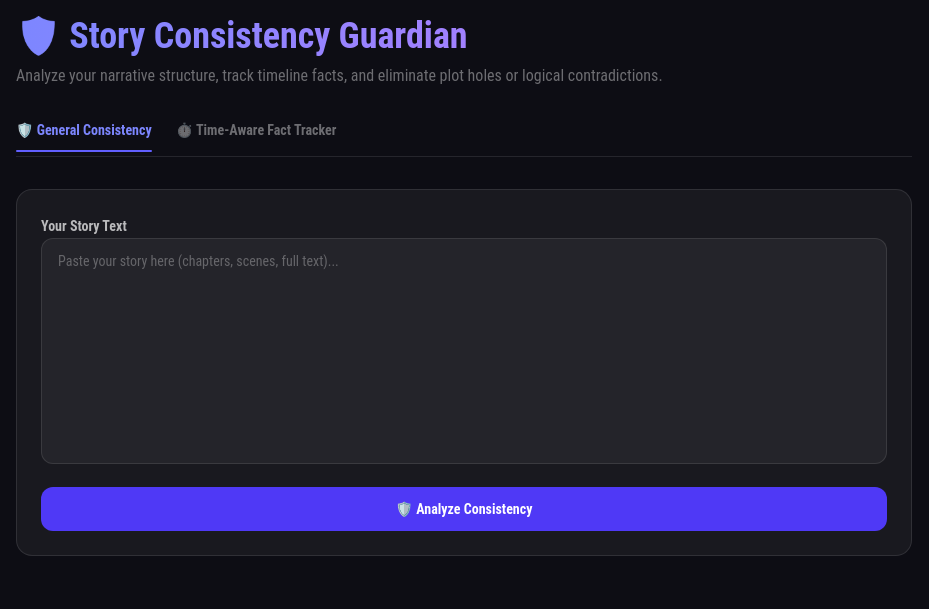
Test: StoryConsistencyGuardian › clears stale error state when story text changes
Type "short text" into the text box with placeholder "Paste your story here (chapters, scenes, full text)...".
click(464, 351); type("short text")  # box [41, 238, 887, 464]
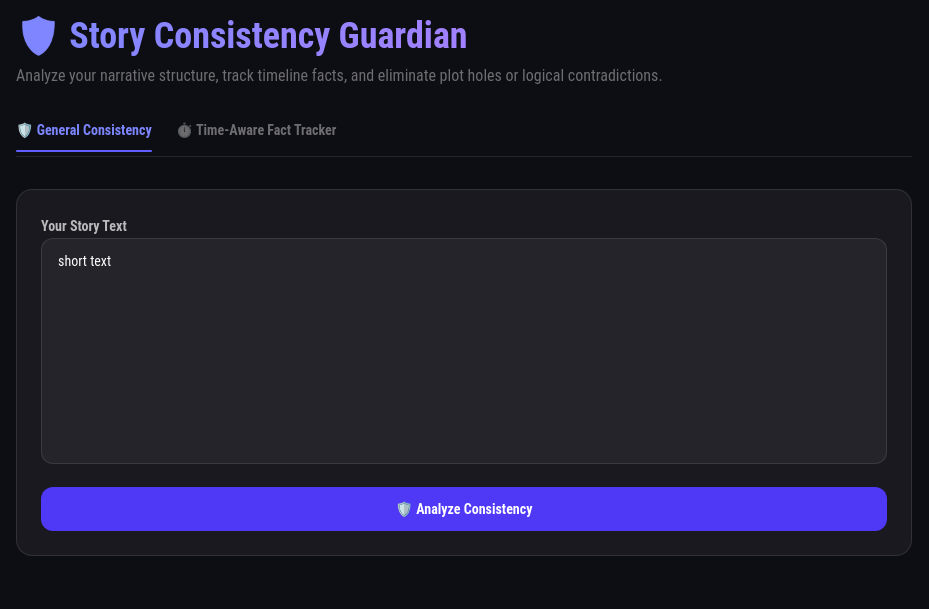
Click the button "🛡️ Analyze Consistency".
click(464, 509)  # box [41, 487, 887, 531]
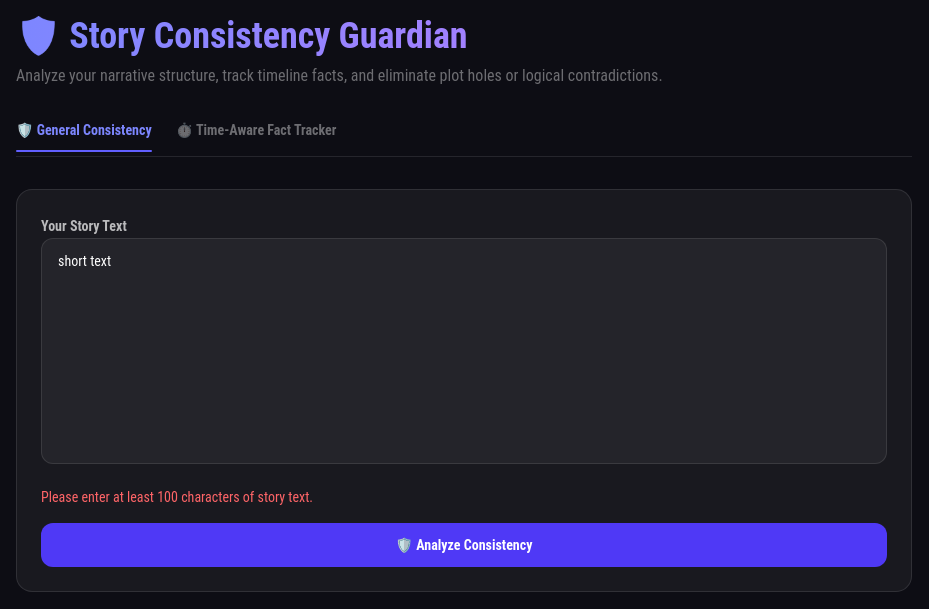
Expected: the text "Please enter at least 100 characters of story text." is shown, [41, 489, 313, 505]
Replace the text in the text box with placeholder "Paste your story here (chapters, scenes, full text)..." with "short text updated" at (464, 351), box [41, 238, 887, 464]
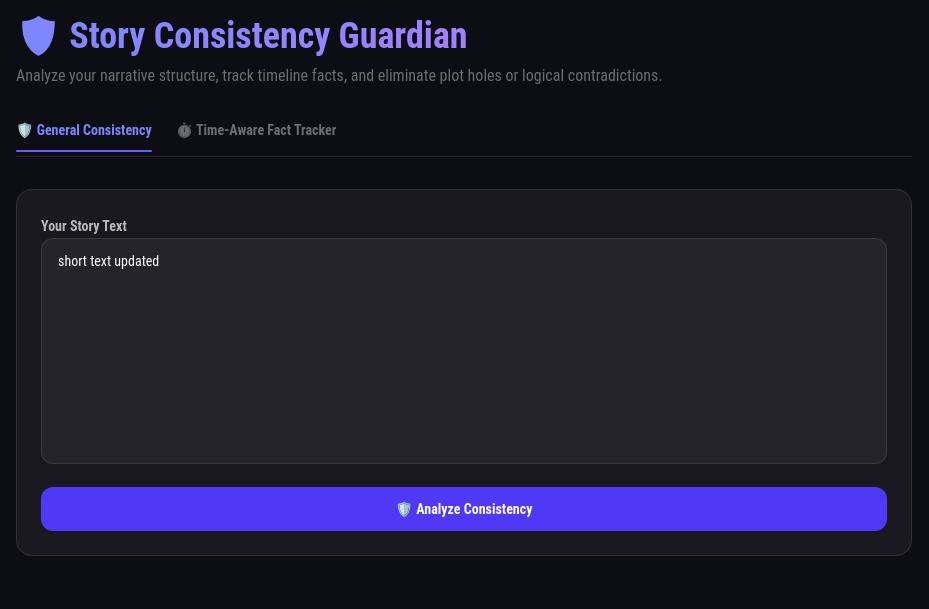
Expected: the text "Please enter at least 100 characters of story text" is gone
